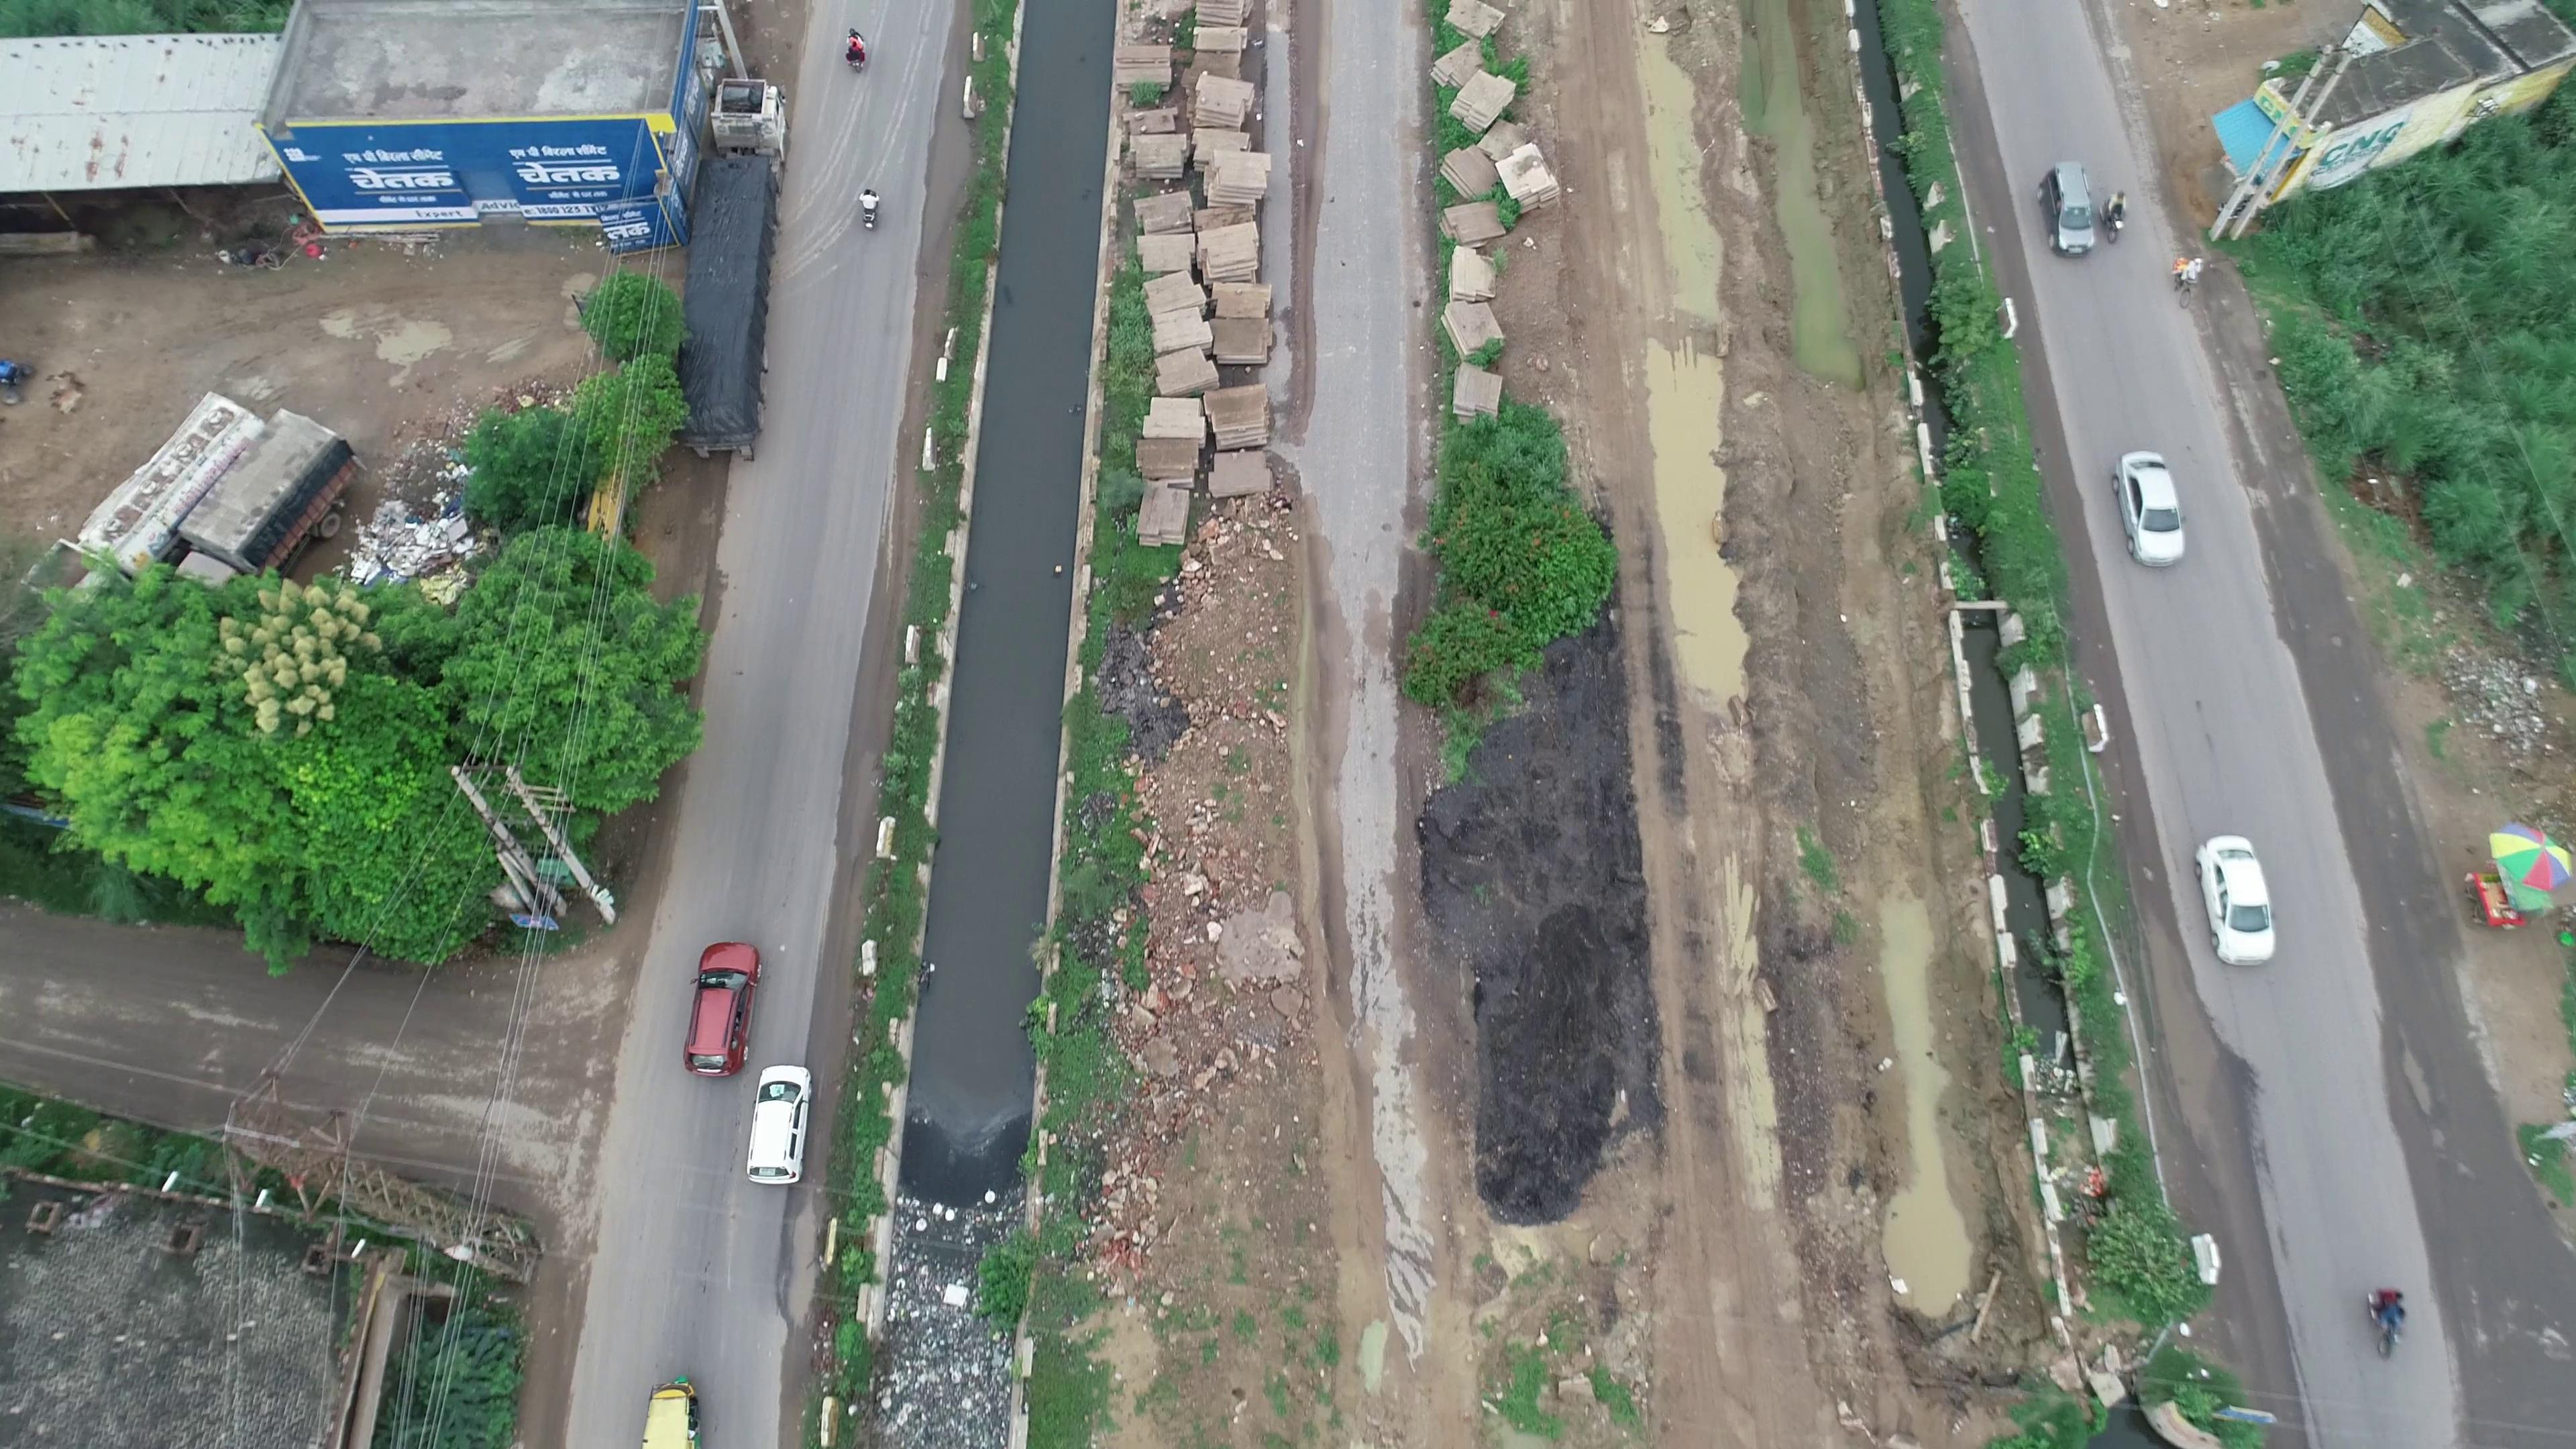Potholes: (2314, 619, 2365, 669)
